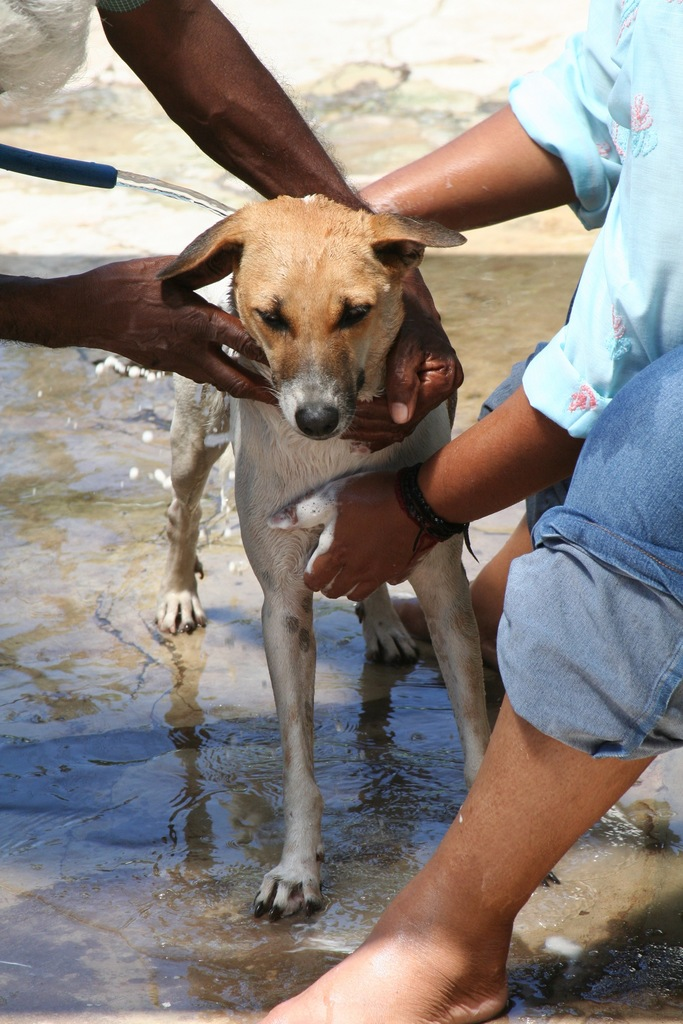Human_hand: (58, 253, 280, 414), (262, 473, 443, 605), (343, 264, 466, 454)
